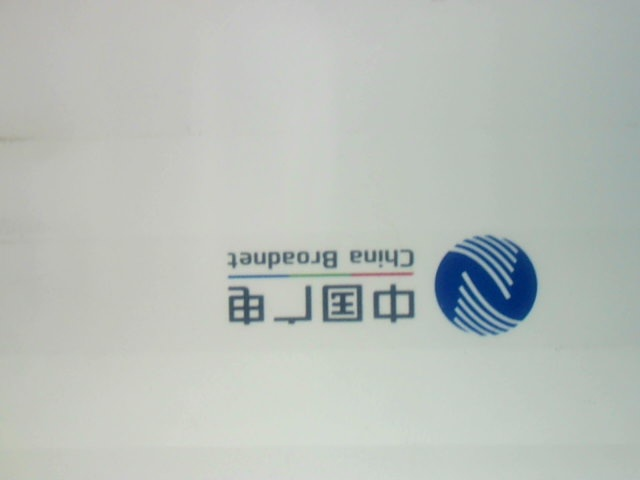AW_ChinaBroadNet: (206, 231, 548, 340)
